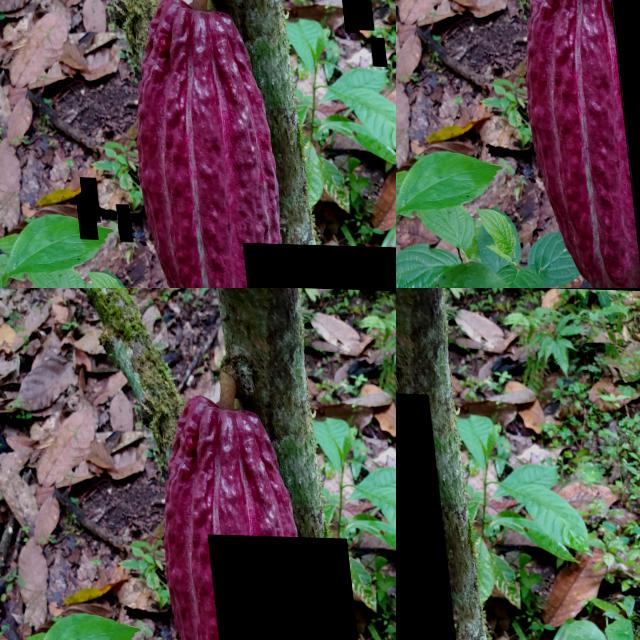Monilia: (201, 532, 374, 640)
Sana: (396, 389, 459, 640), (69, 196, 90, 238), (73, 177, 93, 221), (108, 203, 125, 240), (351, 0, 371, 27), (338, 0, 356, 30), (366, 34, 383, 64)
